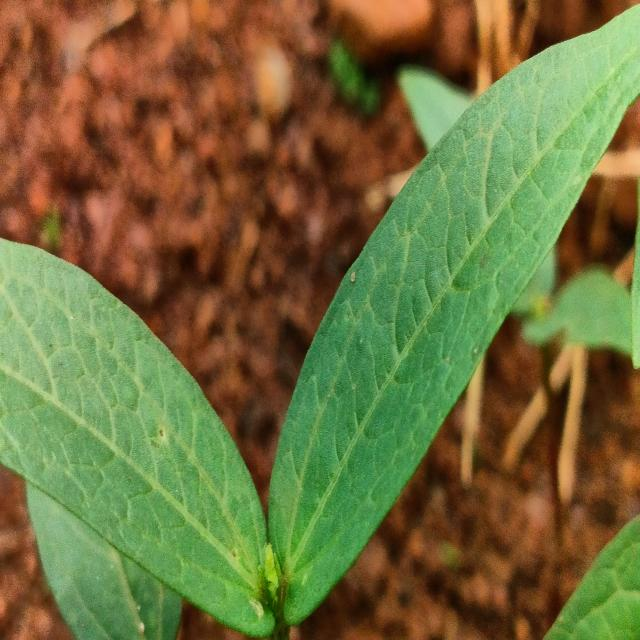Black gram_healthy: (273, 0, 640, 624), (0, 235, 271, 640)
